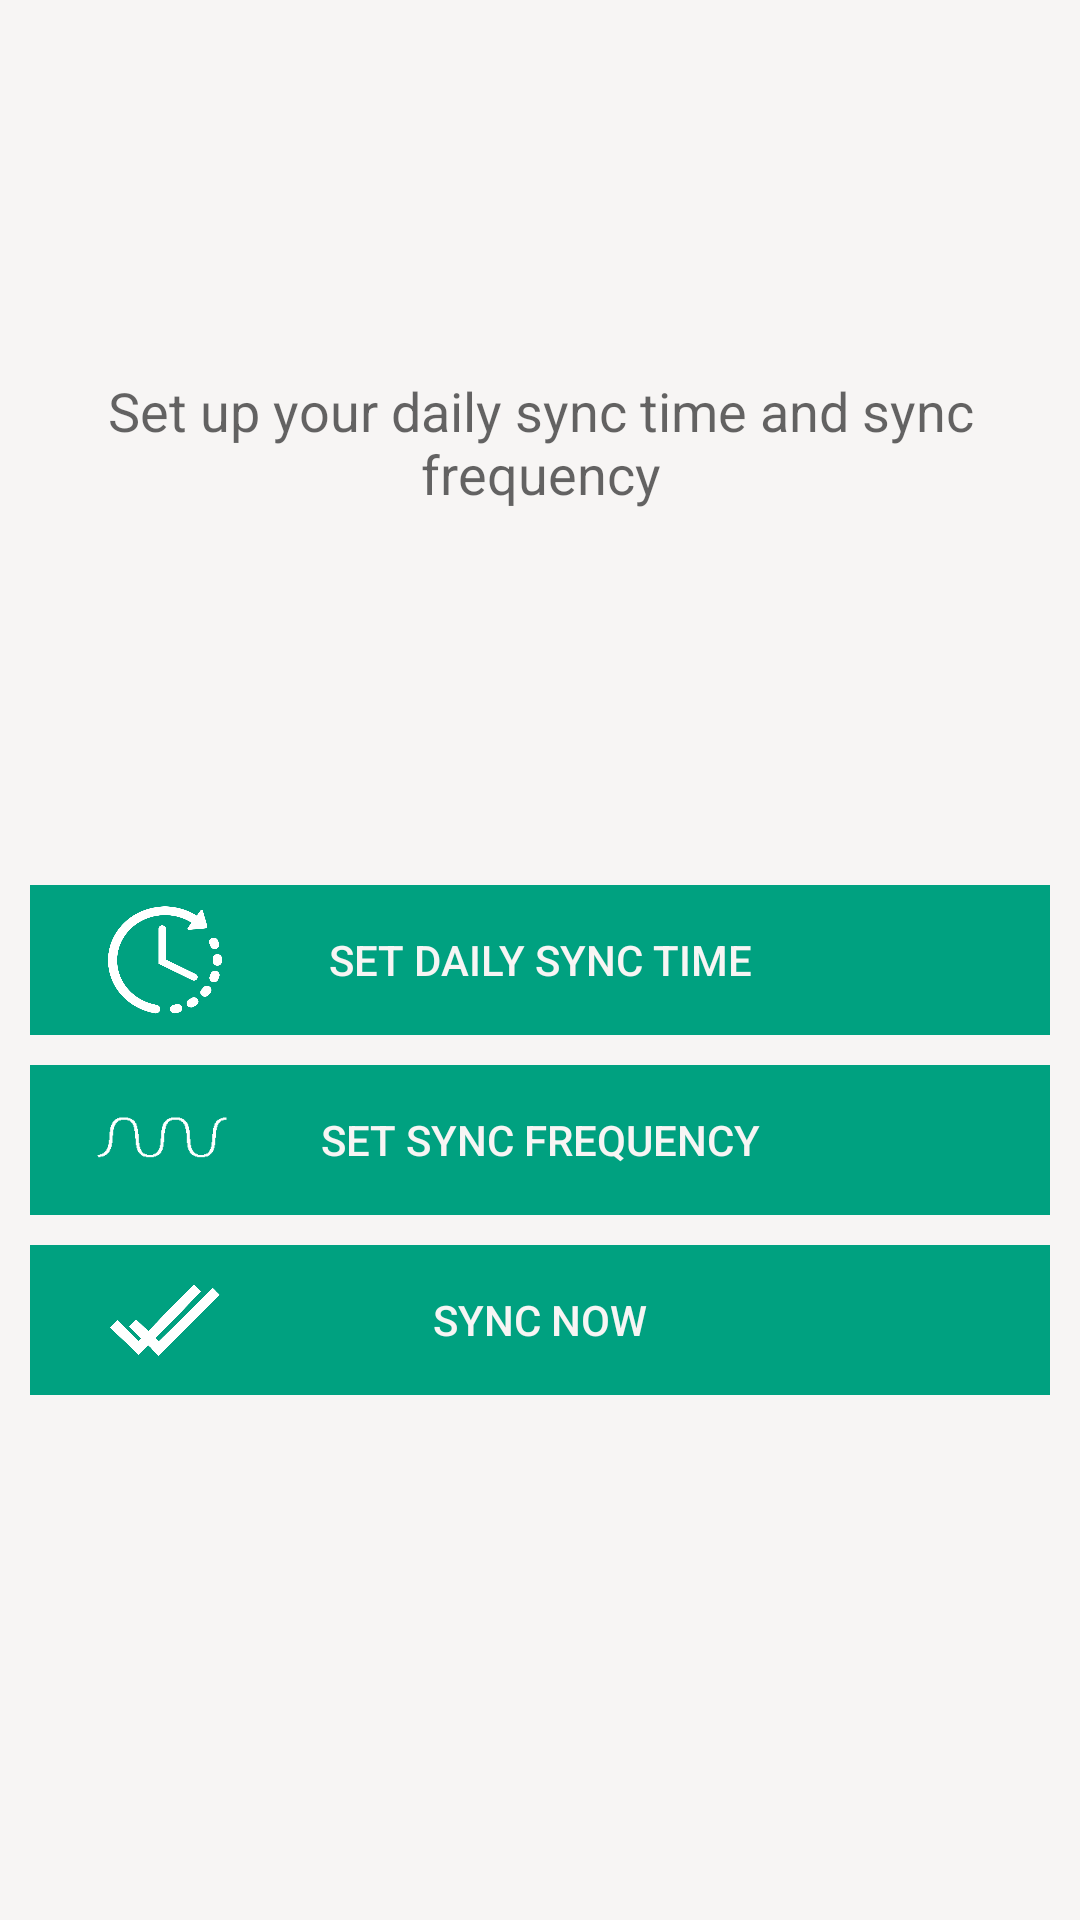

Locate icon controls on the screen. Image size 1080px x 1920px, boxes as (x1, y1, x2, y2).
frequence: (97, 1117, 227, 1158)
time left: (108, 906, 222, 1014)
